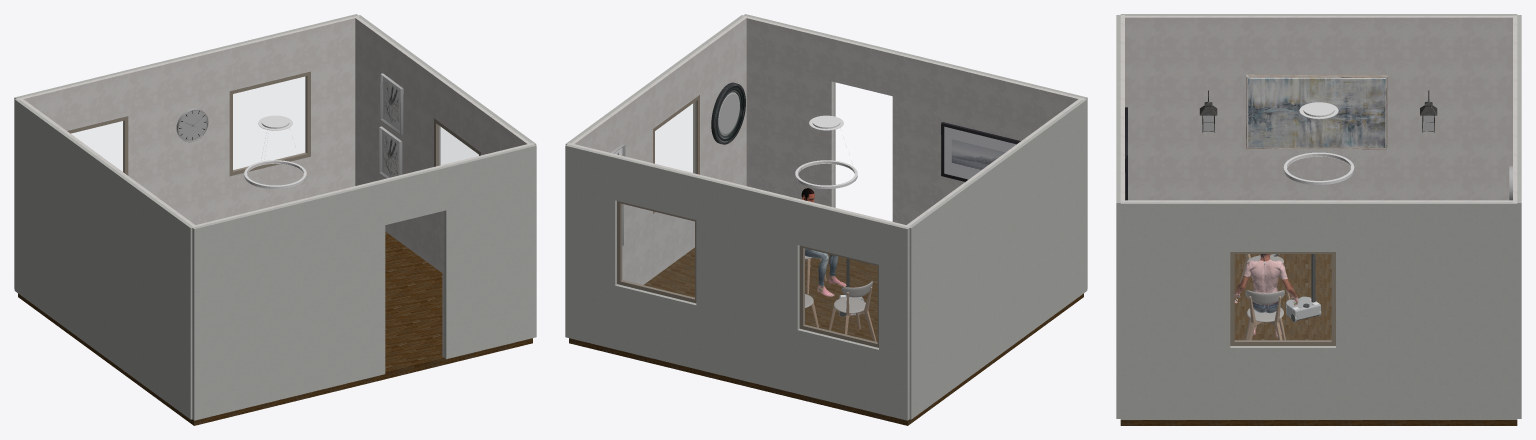
File: resume-before.glb
3 renders of one model, left to right at view 1: azimuth 30°, elevation 25°; view 2: azimuth 150°, elevation 25°; view 3: azimuth 270°, elevation 25°, orthographic. The views are drawn at different scales.
Visible parts, largest first — view 1: room__room_geometry_dining_room__v6__0_0, room__room_geometry_dining_room__v11__0_0, room__room_geometry_dining_room__v1__0_0, room__room_geometry_dining_room__v7__0_0, room__room_geometry_dining_room__v0__0_0, room__room_geometry_dining_room__v3__0_0, room__room_geometry_dining_room__v3__0_1, room__room_geometry_dining_room__v2__0_0, room__room_geometry_dining_room__v5__0_0, room__dining_room_botanical_print_0__0_0, room__room_geometry_dining_room__v4__0_0, room__dining_room_botanical_print_1__0_0 (+6 smaller); view 2: room__room_geometry_dining_room__v4__0_0, room__room_geometry_dining_room__v11__0_0, room__room_geometry_dining_room__v5__0_0, room__room_geometry_dining_room__v7__0_0, room__room_geometry_dining_room__v0__0_0, room__room_geometry_dining_room__v2__0_0, room__room_geometry_dining_room__v3__0_0, room__dining_room_photograph_print_0__0_0, room__room_geometry_dining_room__v8__0_0, room__dining_room_mirror_0__0_0, room__room_geometry_dining_room__v6__0_0, room__room_geometry_dining_room__v2__0_1 (+7 smaller); view 3: room__room_geometry_dining_room__v9__0_0, room__room_geometry_dining_room__v10__0_0, room__dining_room_painting_0__0_0, room__room_geometry_dining_room__v8__0_0, room__room_geometry_dining_room__v0__0_0, room__room_geometry_dining_room__v4__0_0, room__room_geometry_dining_room__v6__0_0, room__room_geometry_dining_room__v8__0_1, room__dining_room_chandelier_0__0_0, room__dining_room_dining_chair_2__0_0, human__base_link, room__room_geometry_dining_room__v7__0_0 (+6 smaller).
Boxes of the visible parts, x1=… form: room__room_geometry_dining_room__v6__0_0: x1=192, y1=144, x2=536, y2=420; room__room_geometry_dining_room__v11__0_0: x1=14, y1=99, x2=192, y2=419; room__room_geometry_dining_room__v1__0_0: x1=17, y1=15, x2=359, y2=224; room__room_geometry_dining_room__v7__0_0: x1=354, y1=16, x2=530, y2=272; room__room_geometry_dining_room__v0__0_0: x1=18, y1=231, x2=532, y2=425; room__room_geometry_dining_room__v3__0_0: x1=233, y1=76, x2=305, y2=170; room__room_geometry_dining_room__v3__0_1: x1=229, y1=71, x2=310, y2=176; room__room_geometry_dining_room__v2__0_0: x1=72, y1=121, x2=123, y2=171; room__room_geometry_dining_room__v5__0_0: x1=192, y1=143, x2=533, y2=357; room__dining_room_botanical_print_0__0_0: x1=380, y1=73, x2=403, y2=134; room__room_geometry_dining_room__v4__0_0: x1=14, y1=14, x2=358, y2=288; room__dining_room_botanical_print_1__0_0: x1=379, y1=126, x2=402, y2=178; room__room_geometry_dining_room__v4__0_0: x1=565, y1=144, x2=909, y2=420; room__room_geometry_dining_room__v11__0_0: x1=909, y1=99, x2=1087, y2=419; room__room_geometry_dining_room__v5__0_0: x1=742, y1=15, x2=1084, y2=224; room__room_geometry_dining_room__v7__0_0: x1=570, y1=17, x2=746, y2=284; room__room_geometry_dining_room__v0__0_0: x1=569, y1=247, x2=1083, y2=425; room__room_geometry_dining_room__v2__0_0: x1=804, y1=248, x2=877, y2=342; room__room_geometry_dining_room__v3__0_0: x1=622, y1=204, x2=694, y2=298; room__dining_room_photograph_print_0__0_0: x1=941, y1=122, x2=1020, y2=181; room__room_geometry_dining_room__v8__0_0: x1=655, y1=102, x2=695, y2=173; room__dining_room_mirror_0__0_0: x1=711, y1=82, x2=745, y2=144; room__room_geometry_dining_room__v6__0_0: x1=743, y1=14, x2=1087, y2=288; room__room_geometry_dining_room__v2__0_1: x1=799, y1=245, x2=878, y2=347; room__room_geometry_dining_room__v9__0_0: x1=1120, y1=202, x2=1517, y2=419; room__room_geometry_dining_room__v10__0_0: x1=1125, y1=16, x2=1517, y2=200; room__dining_room_painting_0__0_0: x1=1246, y1=74, x2=1387, y2=149; room__room_geometry_dining_room__v8__0_0: x1=1235, y1=254, x2=1331, y2=340; room__room_geometry_dining_room__v0__0_0: x1=1120, y1=254, x2=1517, y2=425; room__room_geometry_dining_room__v4__0_0: x1=1517, y1=15, x2=1521, y2=418; room__room_geometry_dining_room__v6__0_0: x1=1116, y1=15, x2=1120, y2=418; room__room_geometry_dining_room__v8__0_1: x1=1230, y1=252, x2=1335, y2=345; room__dining_room_chandelier_0__0_0: x1=1283, y1=102, x2=1354, y2=184; room__dining_room_dining_chair_2__0_0: x1=1245, y1=290, x2=1285, y2=340; human__base_link: x1=1246, y1=260, x2=1283, y2=313; room__room_geometry_dining_room__v7__0_0: x1=1121, y1=200, x2=1516, y2=202.
Size of the model in its own units: 5.1 by 2.8 by 4.6.
35 materials, 12 textured.
